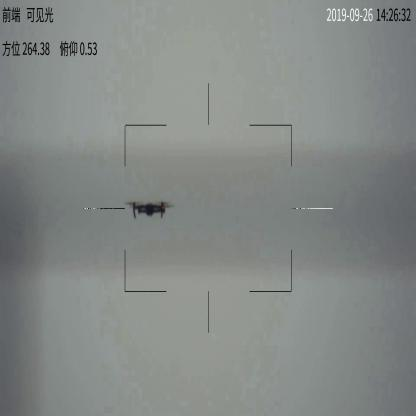uav: (124, 197, 175, 222)
